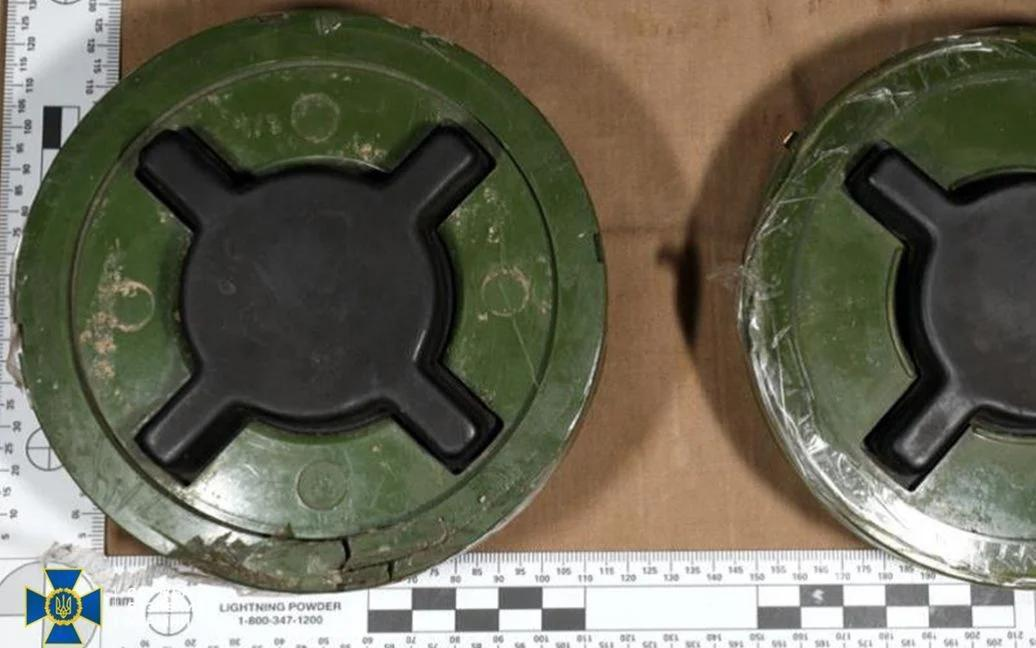PMN 2: (11, 7, 609, 596), (747, 23, 1036, 588)
